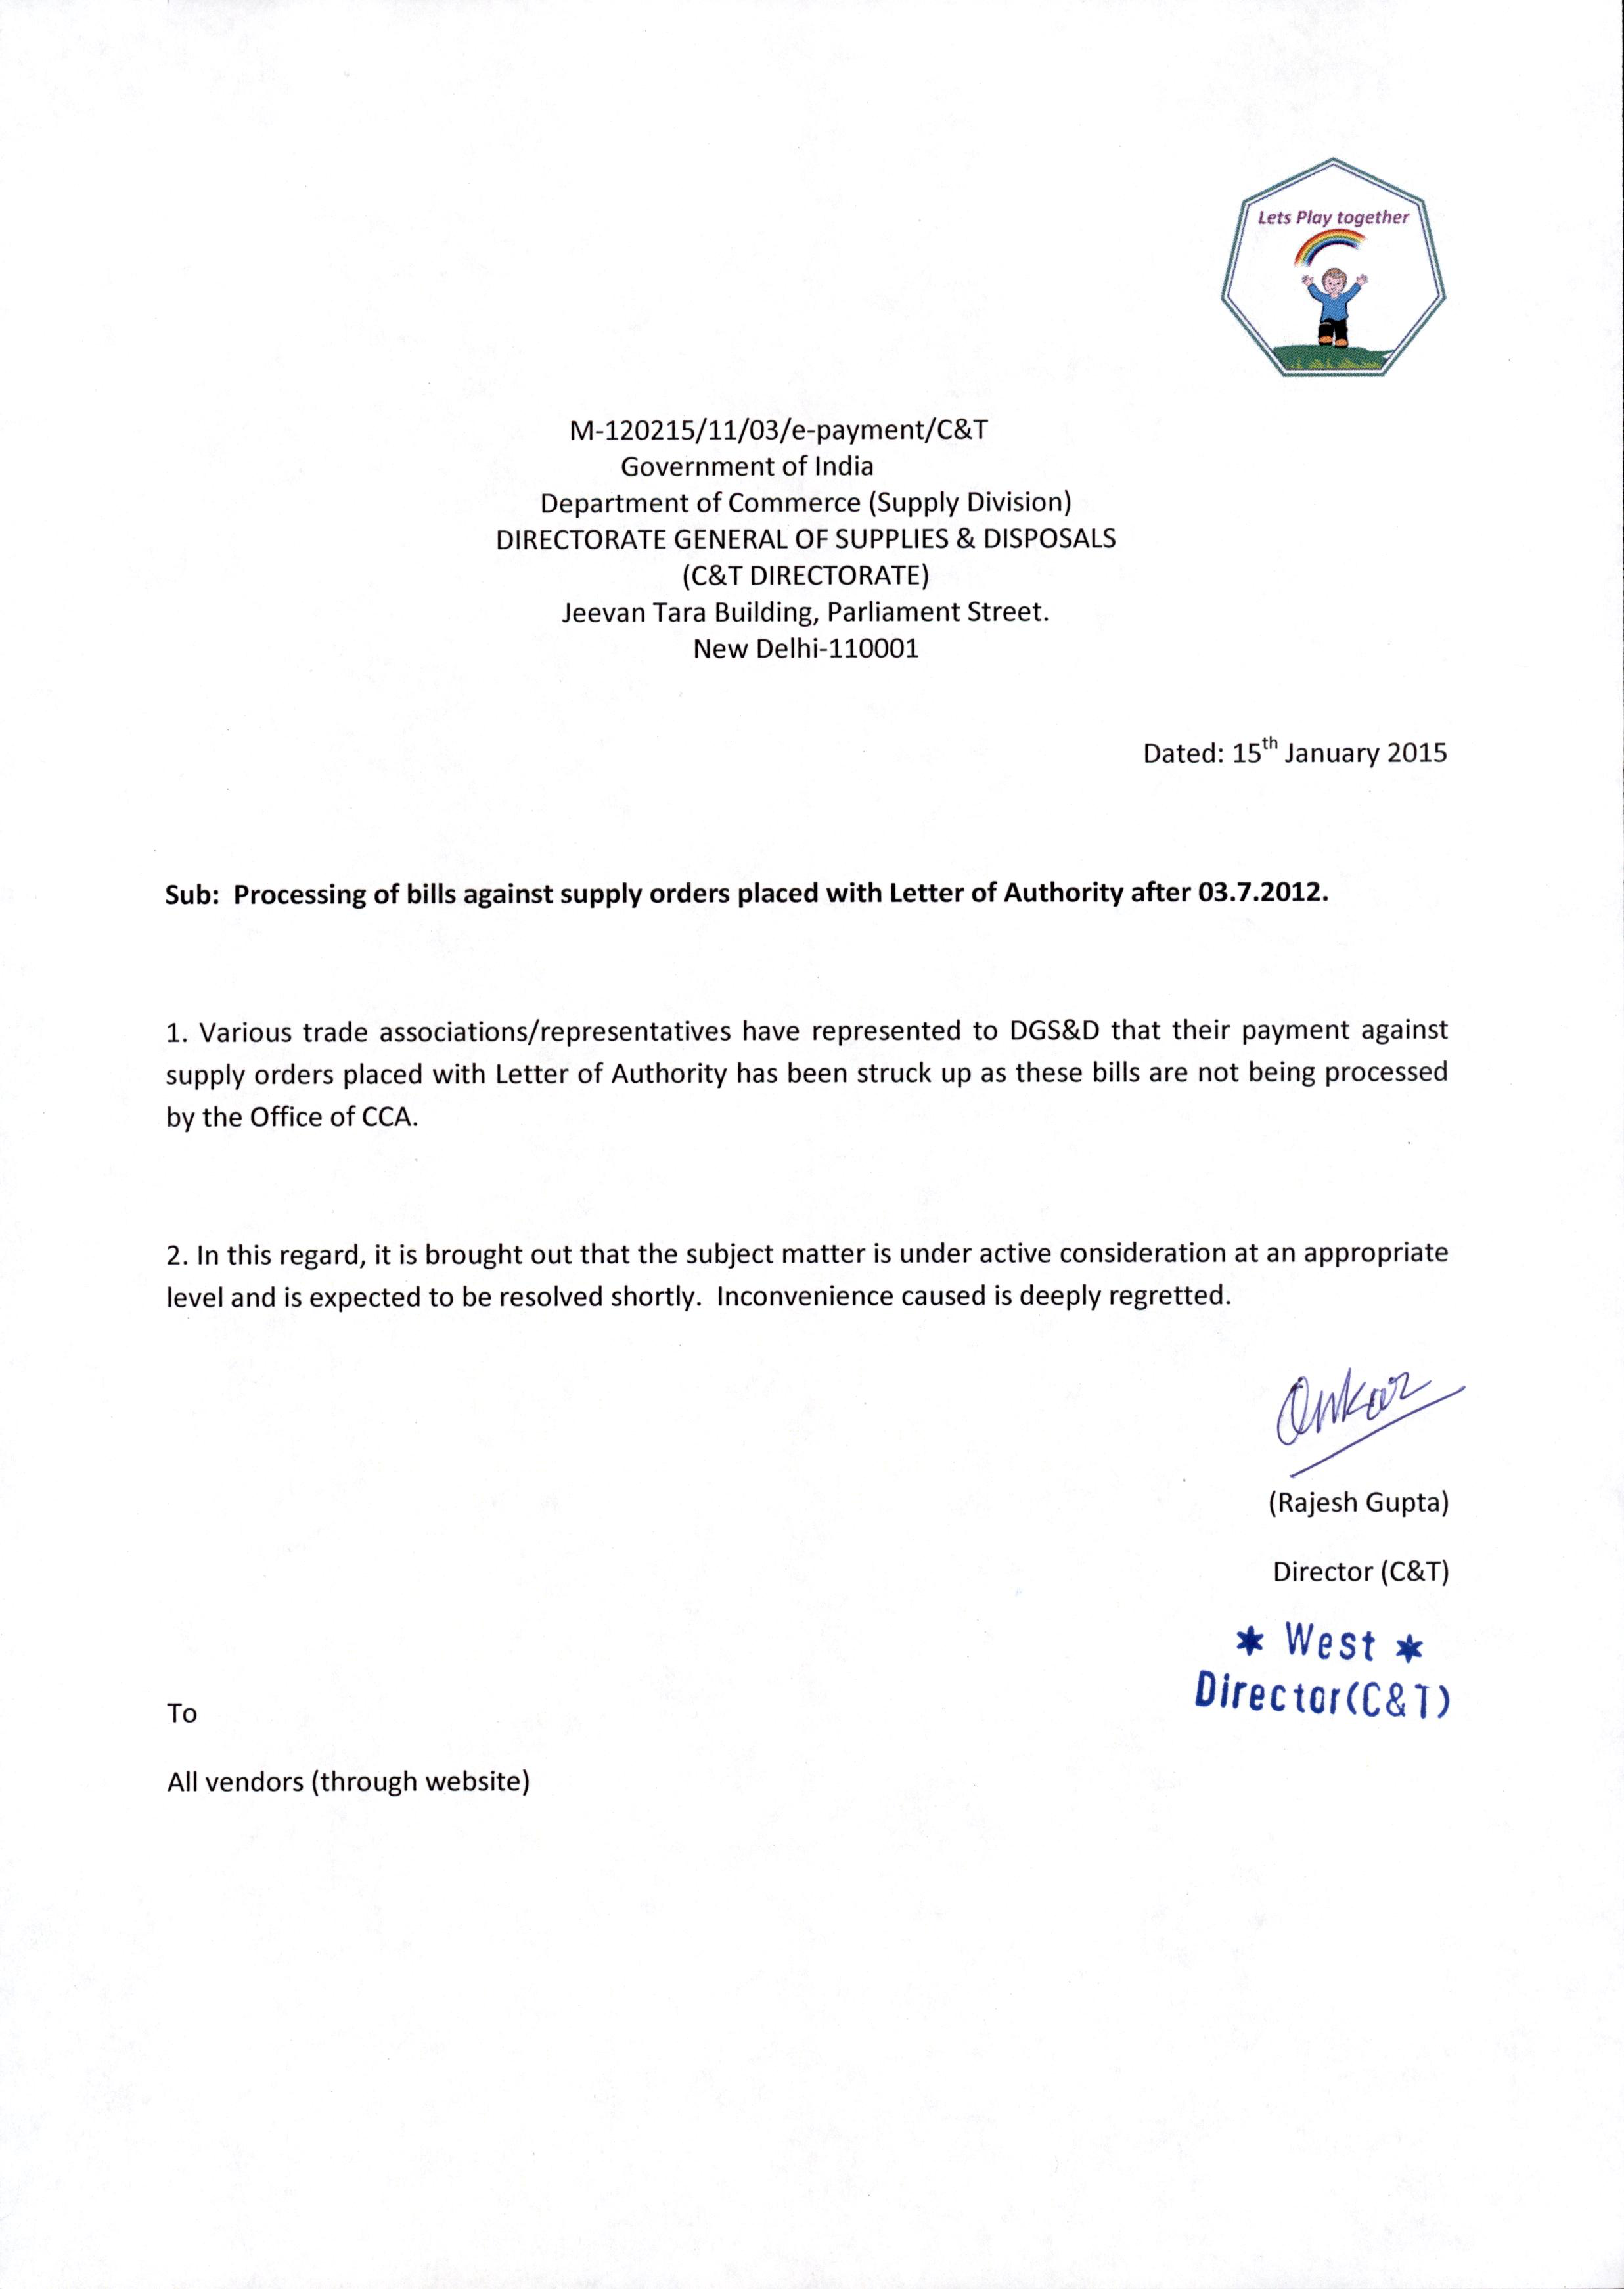Signature: (1262, 1352, 1476, 1480)
